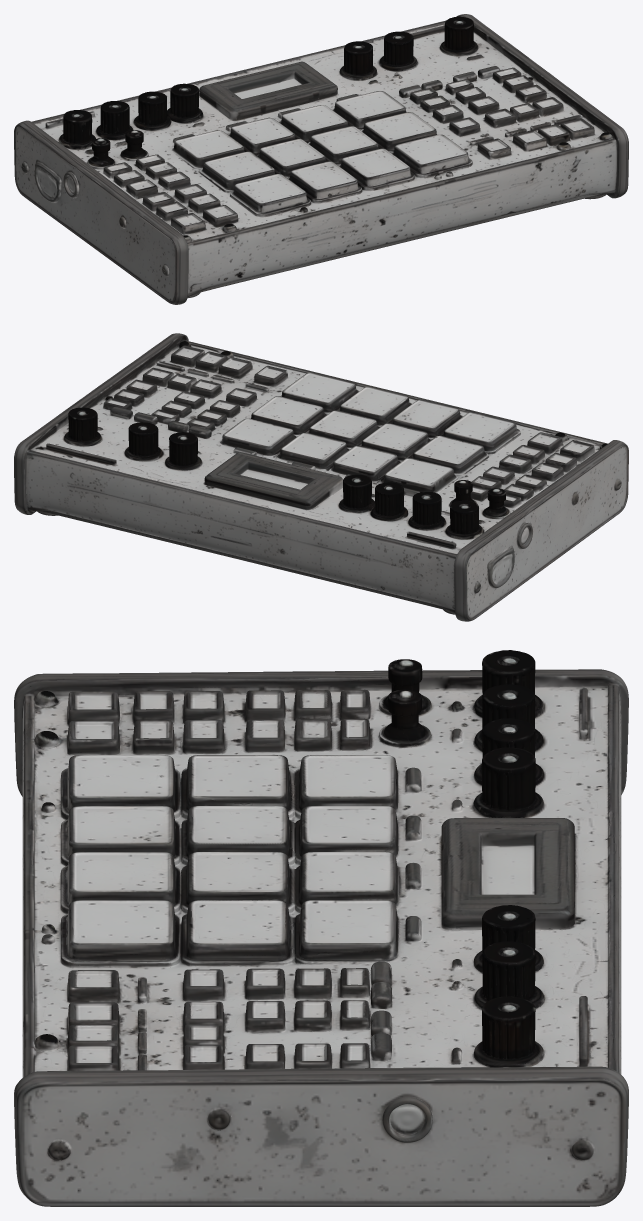
The model's file is minimal_sampler___music_device (1).glb.
3 views of the same model, one above another, from view 1: azimuth 30°, elevation 25°; view 2: azimuth 150°, elevation 25°; view 3: azimuth 270°, elevation 25° (orthographic). The views are drawn at different scales.
Visible parts, largest first — view 1: texture_pbr_v128_0; view 2: texture_pbr_v128_0; view 3: texture_pbr_v128_0.
Part boxes in pixels (<box>): texture_pbr_v128_0: <box>14,14,628,304</box>; texture_pbr_v128_0: <box>14,333,628,621</box>; texture_pbr_v128_0: <box>14,650,628,1206</box>.
Bounding box in the file's own units: 1.02 × 0.1947 × 0.6412.
Materials: 1 (1 with a texture image).
